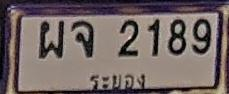1: (148, 18, 159, 56)
2: (118, 19, 139, 57)
8: (167, 18, 186, 56)
9: (192, 18, 211, 54)
A08: (71, 20, 95, 58)
A28: (38, 20, 64, 60)
RYG: (88, 69, 147, 91)
